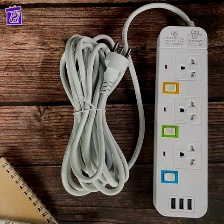three_eye_plug: (148, 14, 212, 222)
